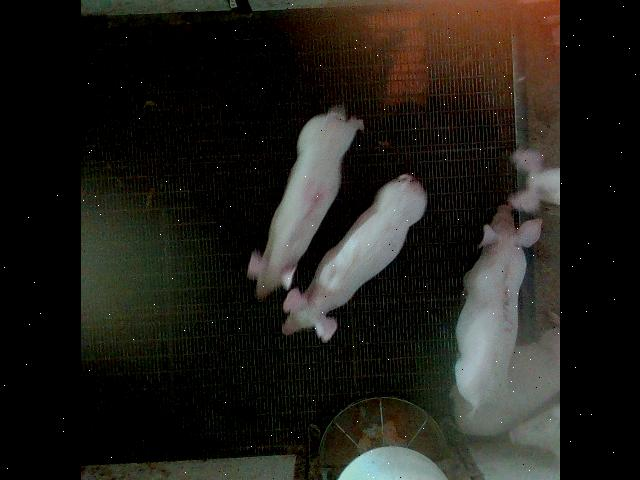pig-3: (454, 205, 541, 410)
pig-4: (246, 106, 362, 300)
